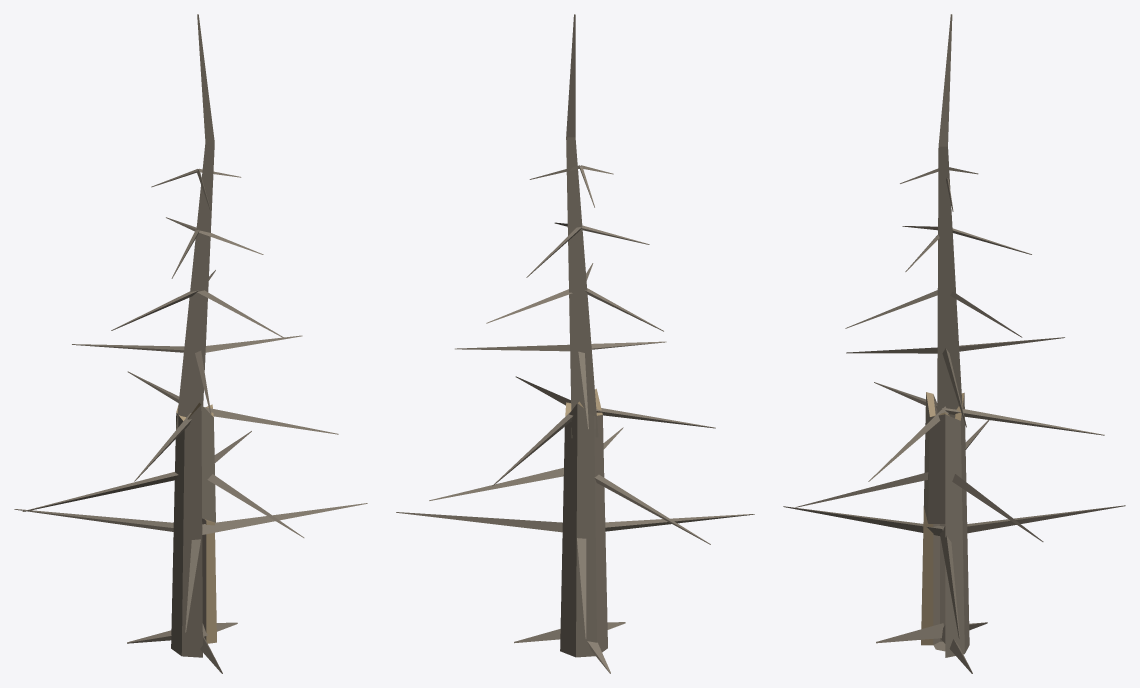
Rendered from hemlock-dead-lod2.glb.
The picture shows the model from 3 angles, left to right: view 1: azimuth 30°, elevation 25°; view 2: azimuth 150°, elevation 25°; view 3: azimuth 270°, elevation 25°; orthographic projection.
Parts seen in each view (by area): view 1: tree_hemlock-dead_LOD2; view 2: tree_hemlock-dead_LOD2; view 3: tree_hemlock-dead_LOD2.
Part boxes in pixels (x1,y1,x2,y2): tree_hemlock-dead_LOD2: [14, 14, 367, 673]; tree_hemlock-dead_LOD2: [396, 14, 754, 673]; tree_hemlock-dead_LOD2: [783, 14, 1125, 673].
Bounding box in the file's own units: 7.38 × 13.5 × 6.59.
